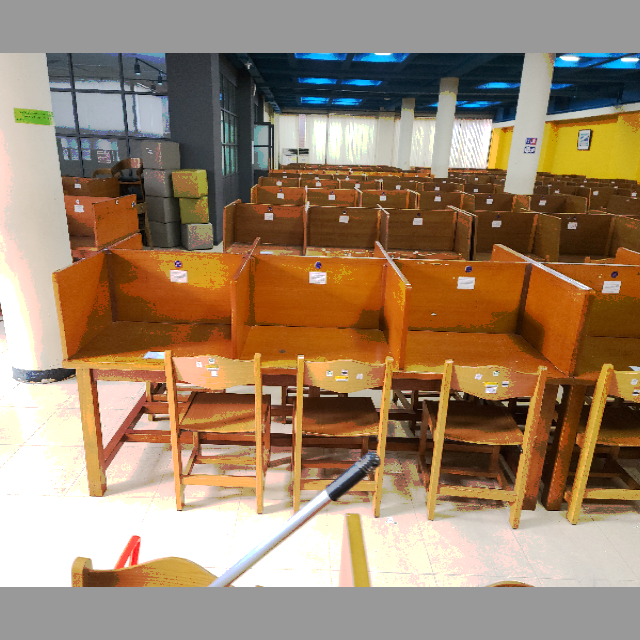empty: (413, 253, 585, 446), (242, 248, 406, 427), (62, 246, 235, 411)
